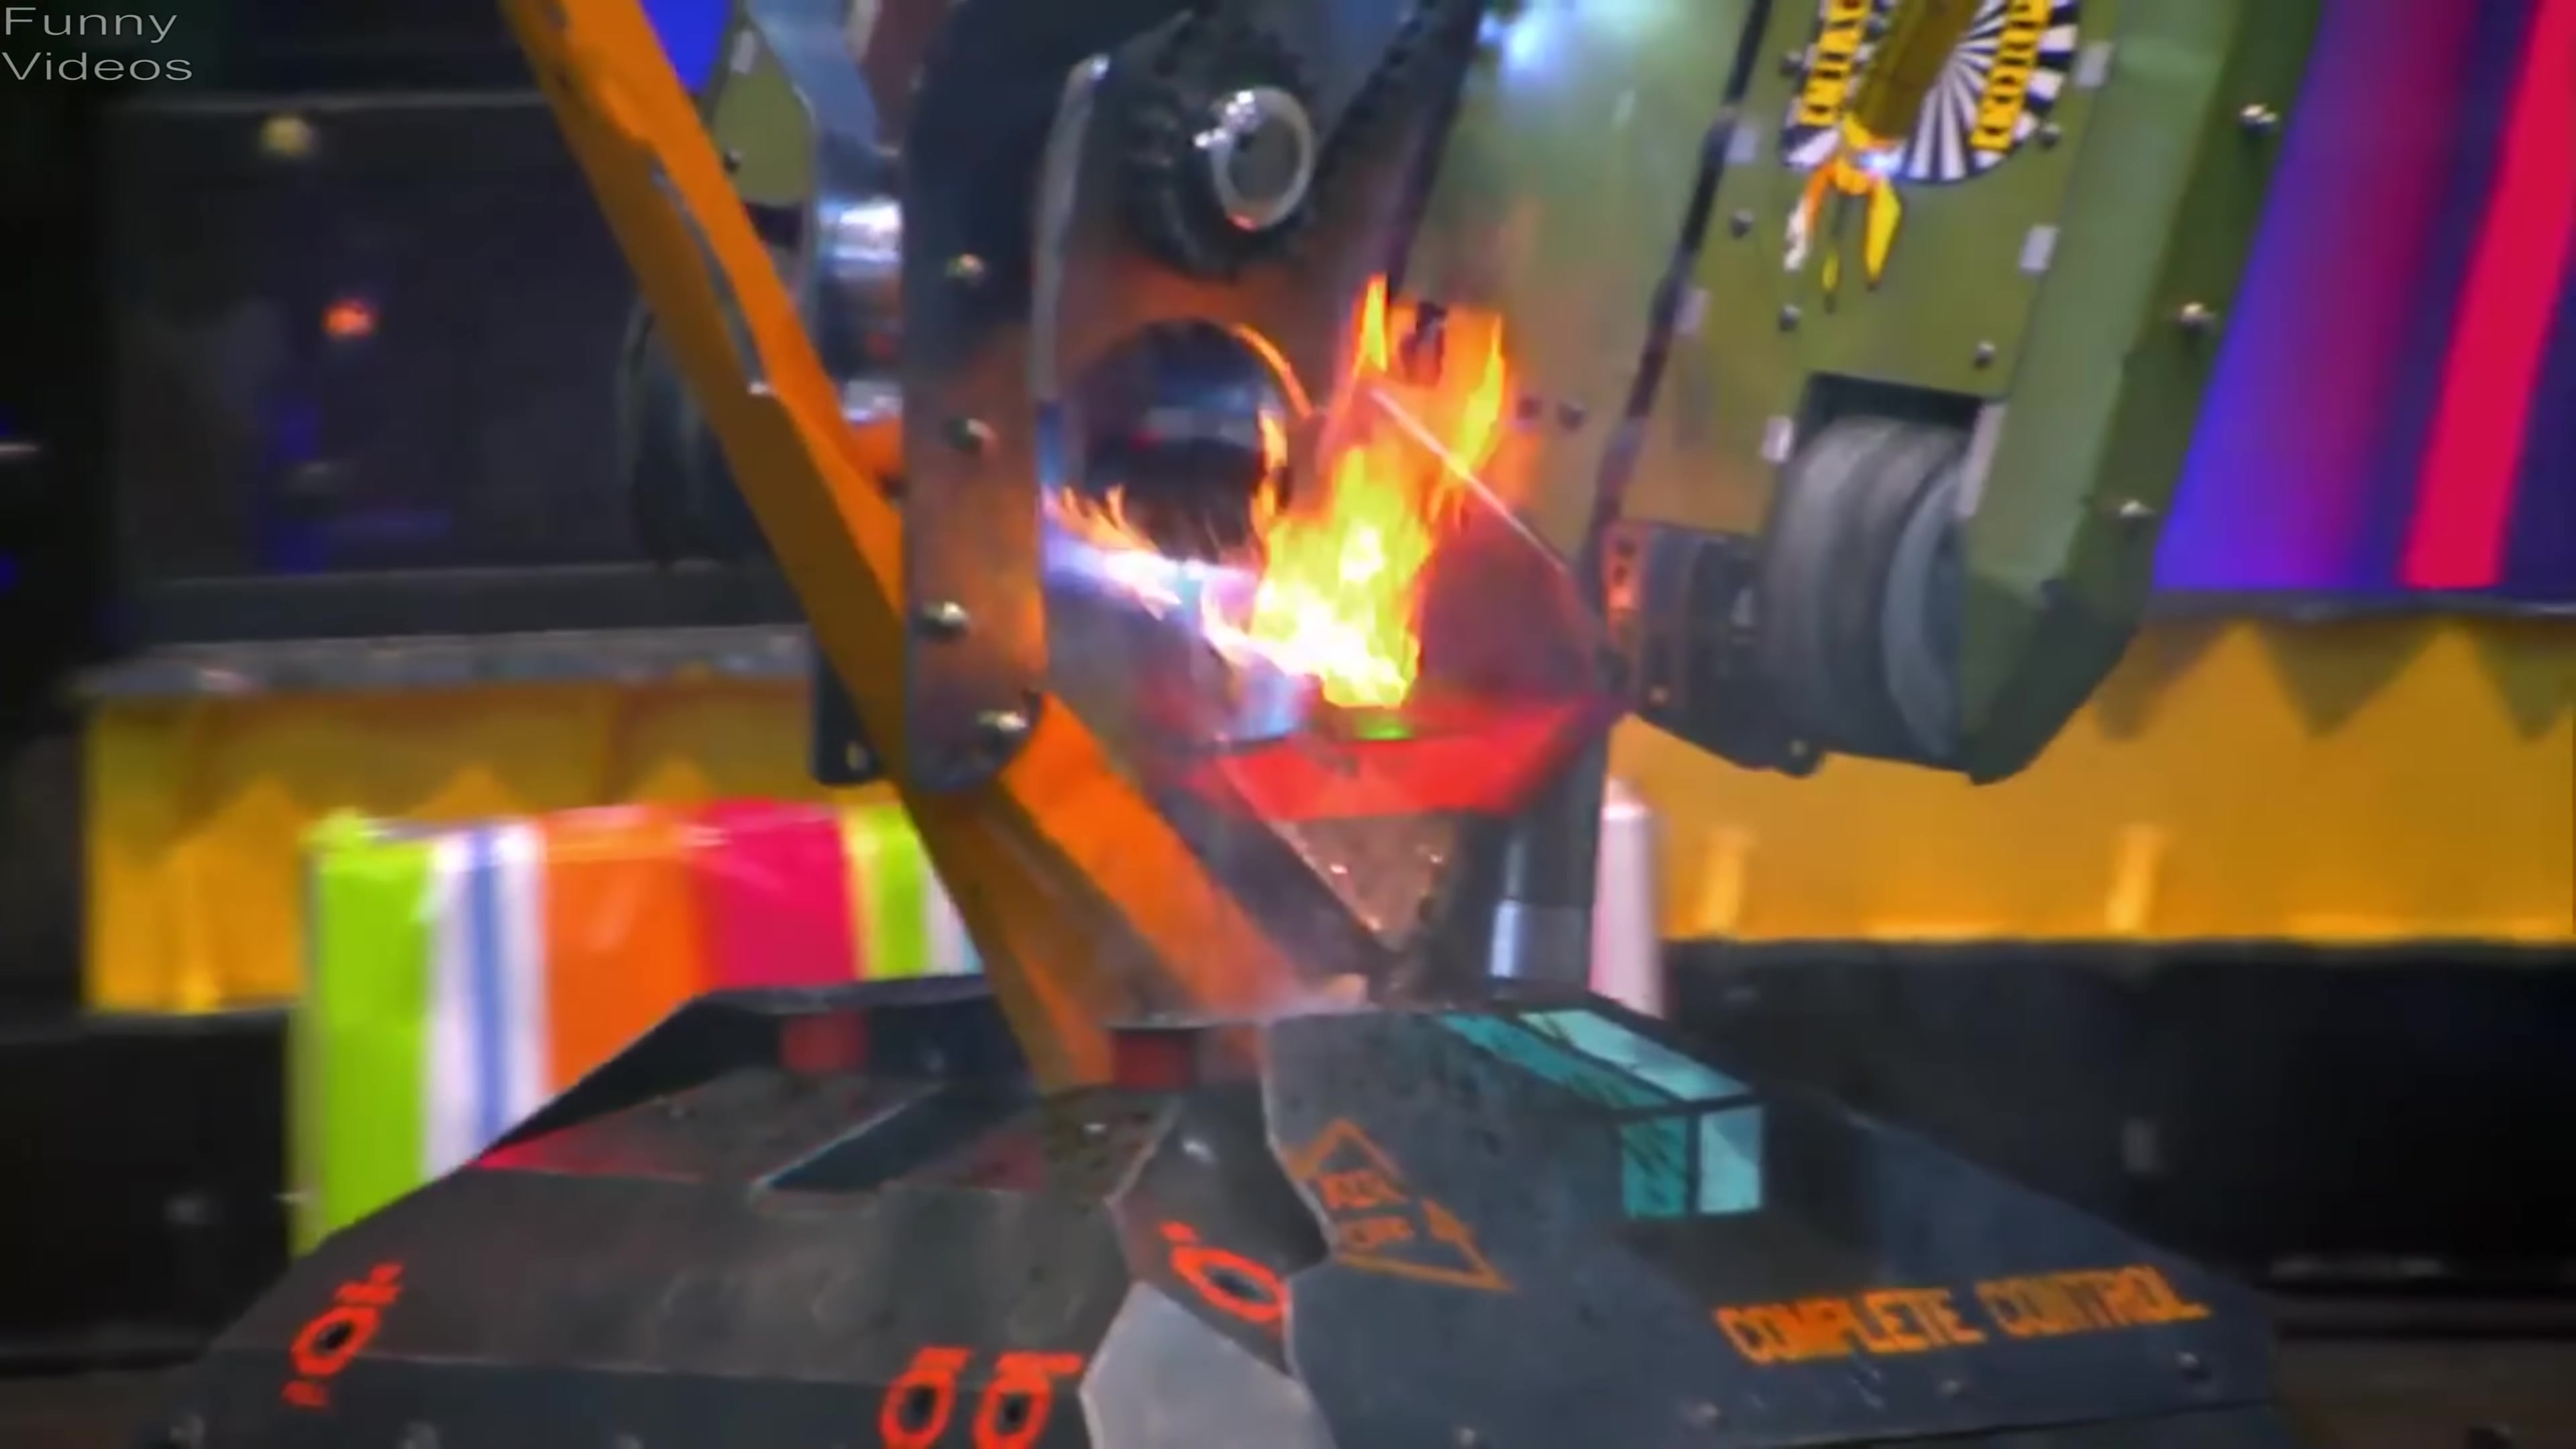combatbot: (597, 0, 2298, 812), (175, 992, 2296, 1444)
